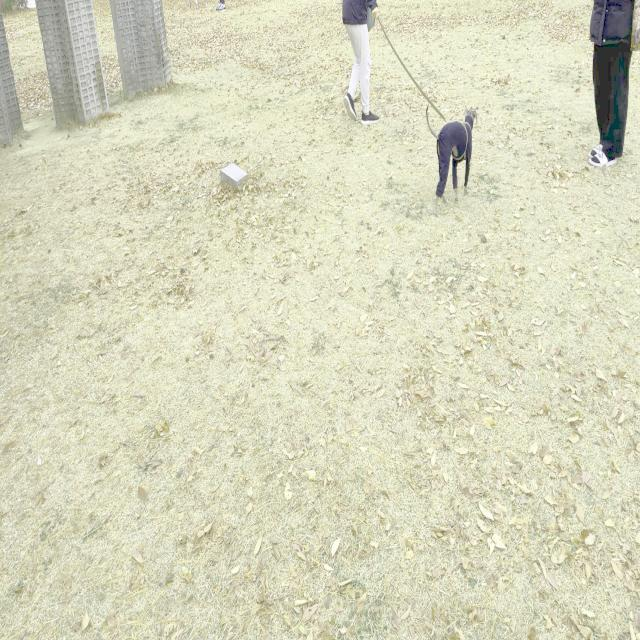Leashed_Dog: (354, 0, 479, 197)
